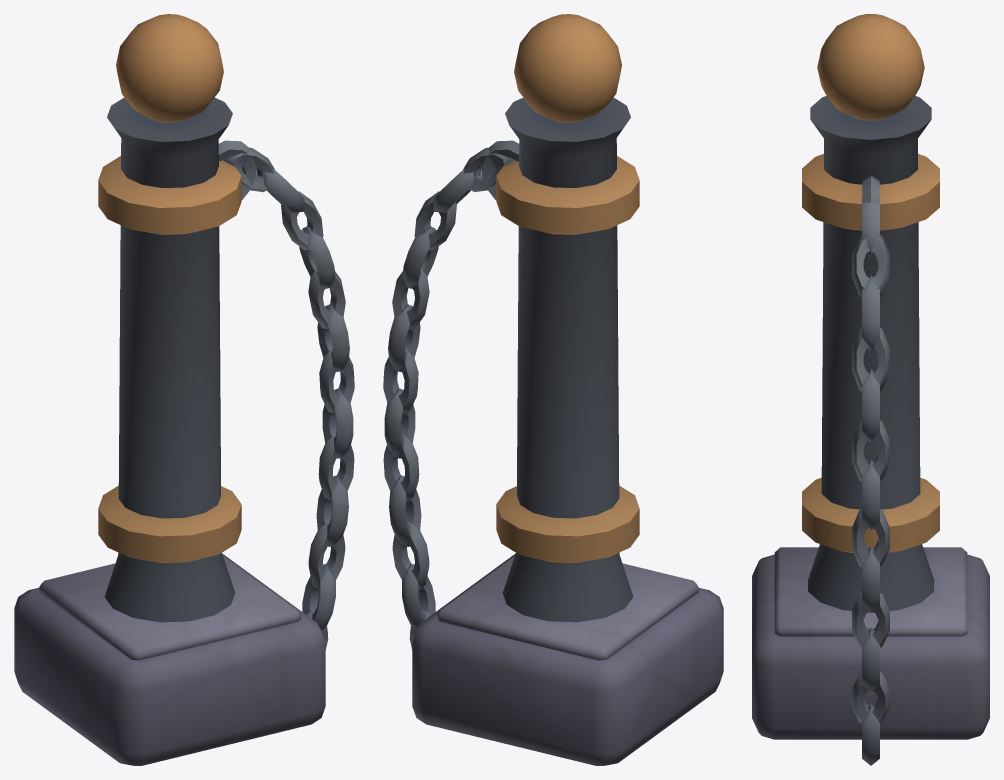
The model's file is EF_P09_ChainPost.fbx.
3 views of the same model, side by side, from view 1: azimuth 30°, elevation 25°; view 2: azimuth 150°, elevation 25°; view 3: azimuth 270°, elevation 25° (orthographic).
Visible parts, largest first — view 1: Post, Chain; view 2: Post, Chain; view 3: Post, Chain.
Part boxes in pixels (x1,y1,x2,y2): Post: (14,14,325,765); Chain: (223,147,354,649); Post: (412,14,723,765); Chain: (383,147,514,649); Post: (752,14,989,739); Chain: (852,197,889,765).
Bounding box in the file's own units: 0.5799 × 1.33 × 0.42.
